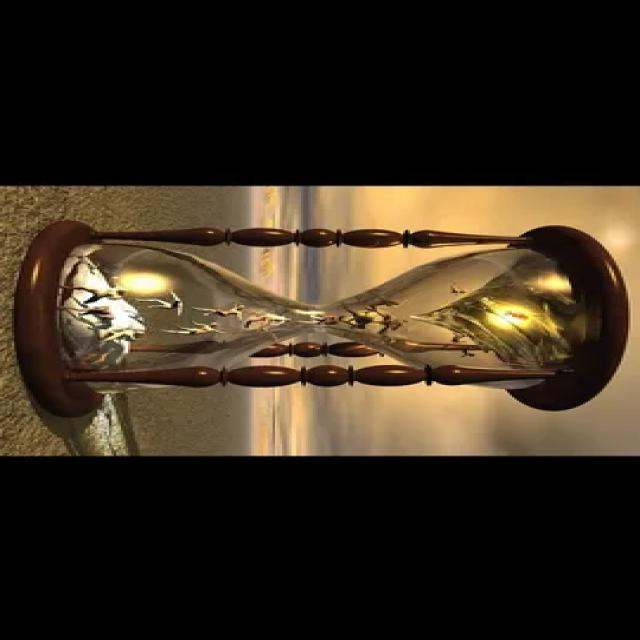clock: (20, 214, 632, 420)
